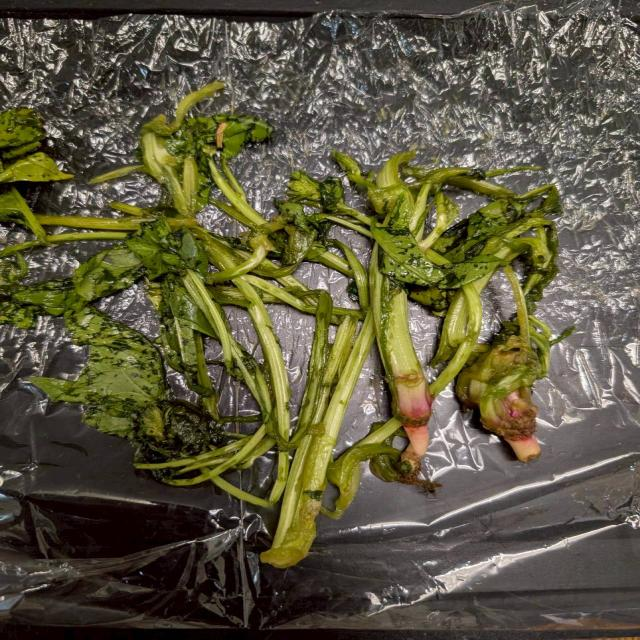rotten spinach: (0, 64, 578, 568), (139, 72, 403, 576), (0, 96, 254, 474), (316, 138, 532, 520), (407, 162, 588, 496)
